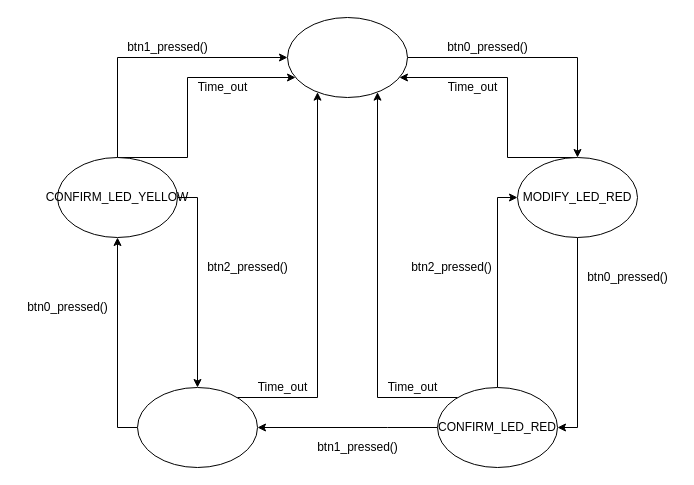
Image size: 694x485. Some labels were removed from this diagram. The shapes that lost their labels are listed below. From the top down, each one's centre as x and y in pixels, then its label:
the point at 347,57: NORMAL
the point at 197,427: MODIFY_LED_YELOW
